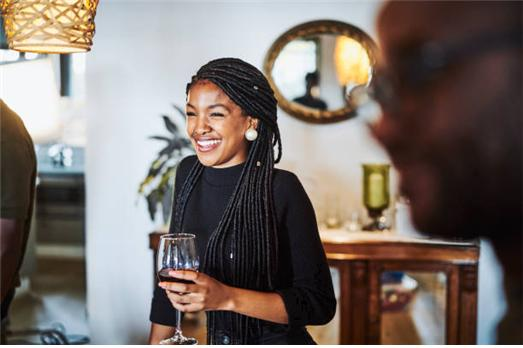alcohol: (155, 233, 199, 346)
